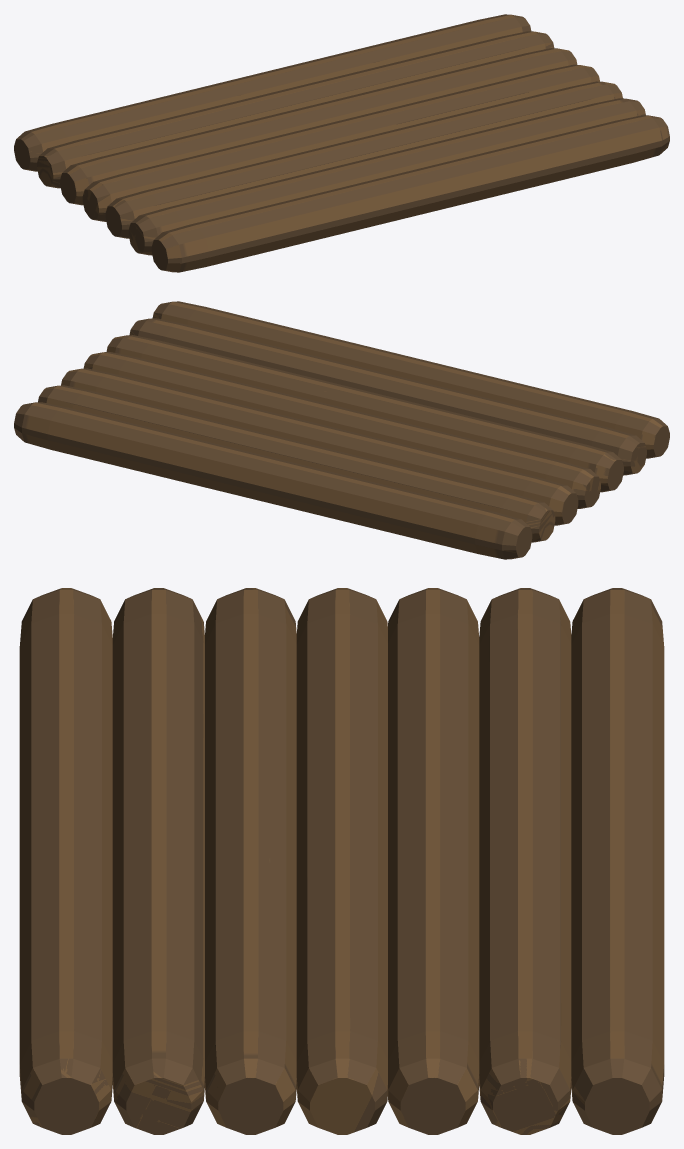
Rendered from Raft.fbx.
3 views of the same model, one above another, from view 1: azimuth 30°, elevation 25°; view 2: azimuth 150°, elevation 25°; view 3: azimuth 270°, elevation 25° (orthographic). The views are drawn at different scales.
Visible parts, largest first — view 1: Raft; view 2: Raft; view 3: Raft.
Boxes of the visible parts, x1,y1,x2,y2 form: Raft: (14, 14, 669, 272); Raft: (14, 301, 669, 559); Raft: (19, 588, 664, 1134).
Size of the model in its own units: 2474 by 183 by 1375.
